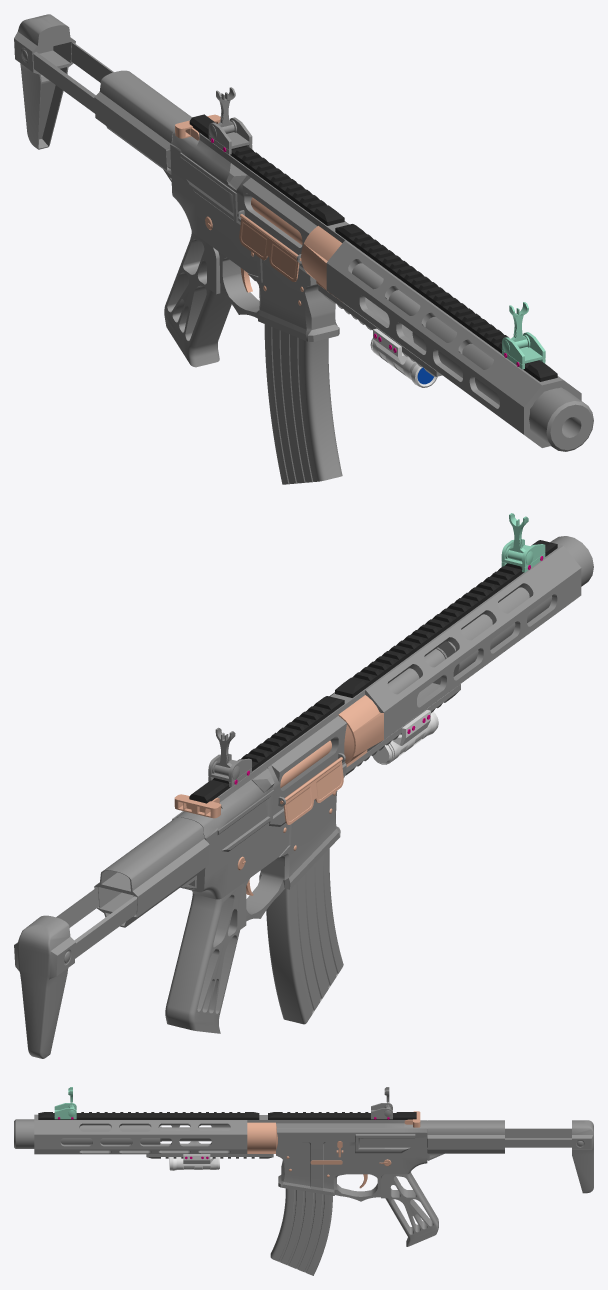
The picture shows the model from 3 angles, top to bottom: view 1: azimuth 30°, elevation 25°; view 2: azimuth 150°, elevation 25°; view 3: azimuth 270°, elevation 25°; orthographic projection. The views are drawn at different scales.
Parts seen in each view (by area): view 1: Box001, Box003, Box028, Object, Box005, Box006, Box002, Cylinder001, Cylinder003, Cylinder002, Cylinder030, Object002 (+4 smaller); view 2: Box001, Box003, Box028, Object, Box006, Box002, Box005, Cylinder001, Cylinder002, Cylinder003, Cylinder030, Box011 (+2 smaller); view 3: Box001, Box003, Box028, Object, Box002, Box005, Box006, Cylinder001, Cylinder002, Cylinder030, Object002, Box004 (+2 smaller).
Part boxes in pixels (bbox=[...]): Box001: bbox=[170, 131, 349, 341]; Box003: bbox=[326, 240, 581, 447]; Box028: bbox=[264, 324, 342, 484]; Object: bbox=[14, 14, 170, 167]; Box005: bbox=[189, 114, 557, 381]; Box006: bbox=[164, 231, 231, 367]; Box002: bbox=[94, 70, 191, 181]; Cylinder001: bbox=[412, 317, 593, 451]; Cylinder003: bbox=[239, 214, 301, 281]; Cylinder002: bbox=[301, 226, 342, 302]; Cylinder030: bbox=[370, 328, 437, 387]; Object002: bbox=[352, 263, 420, 315]; Box001: bbox=[172, 690, 365, 921]; Box003: bbox=[329, 544, 581, 751]; Box028: bbox=[266, 848, 343, 1024]; Object: bbox=[14, 887, 137, 1058]; Box006: bbox=[165, 883, 246, 1033]; Box002: bbox=[94, 817, 209, 927]; Box005: bbox=[189, 540, 557, 803]; Cylinder001: bbox=[433, 536, 593, 684]; Cylinder002: bbox=[338, 695, 383, 767]; Cylinder003: bbox=[280, 757, 343, 824]; Cylinder030: bbox=[372, 710, 438, 764]; Box011: bbox=[174, 794, 221, 818]; Box001: bbox=[247, 1115, 427, 1201]; Box003: bbox=[34, 1114, 247, 1154]; Box028: bbox=[270, 1188, 332, 1275]; Object: bbox=[427, 1120, 593, 1193]; Box002: bbox=[427, 1120, 504, 1160]; Box005: bbox=[38, 1112, 416, 1119]; Box006: bbox=[381, 1172, 438, 1246]; Cylinder001: bbox=[14, 1119, 161, 1148]; Cylinder002: bbox=[247, 1122, 277, 1153]; Cylinder030: bbox=[169, 1154, 219, 1170]; Object002: bbox=[161, 1127, 230, 1141]; Box004: bbox=[146, 1154, 273, 1158].
Bounding box in the file's own units: 7.1 × 40.27 × 115.
